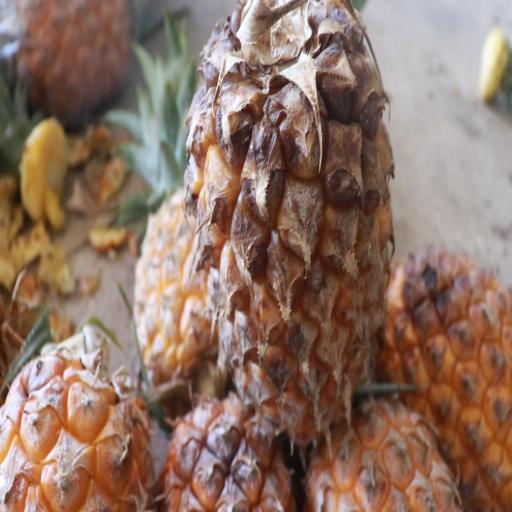Pineapple - v8 v1: (174, 0, 403, 458), (374, 261, 512, 512), (0, 306, 161, 512), (125, 120, 223, 409)
